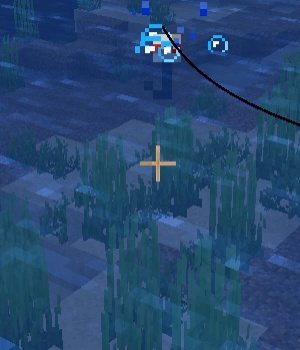up: (143, 28, 186, 105)
